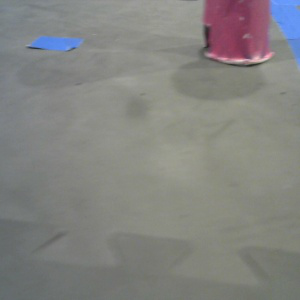right: (201, 1, 274, 67)
